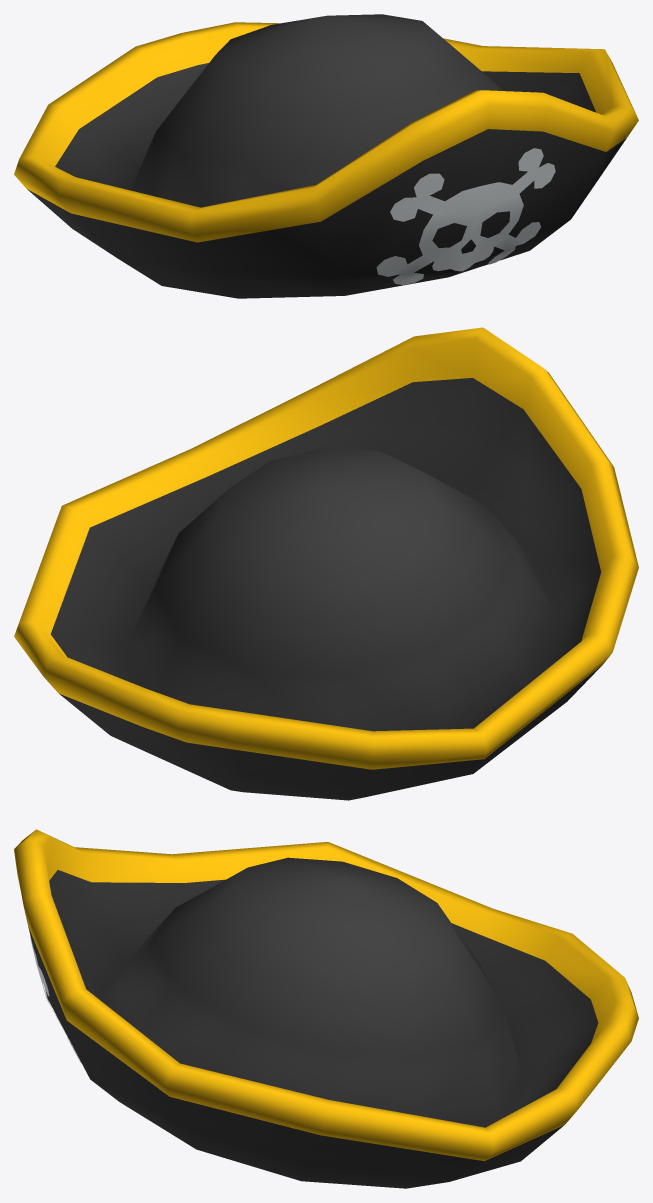
File: Headgear_40.fbx
3 renders of one model, top to bottom at view 1: azimuth 30°, elevation 25°; view 2: azimuth 150°, elevation 25°; view 3: azimuth 270°, elevation 25°, orthographic.
Parts seen in each view (by area): view 1: Headgear_40; view 2: Headgear_40; view 3: Headgear_40.
Part boxes in pixels (bbox=[...]): Headgear_40: bbox=[14, 14, 638, 298]; Headgear_40: bbox=[14, 327, 638, 800]; Headgear_40: bbox=[14, 829, 638, 1188].
Size of the model in its own units: 96.41 by 47.98 by 93.72.
